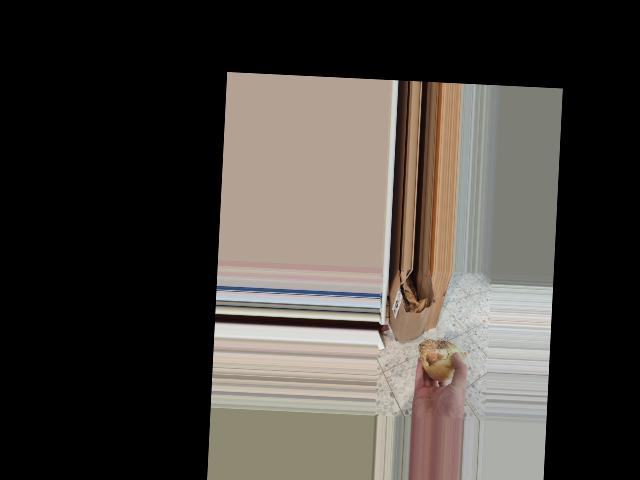onion: (417, 335, 464, 384)
